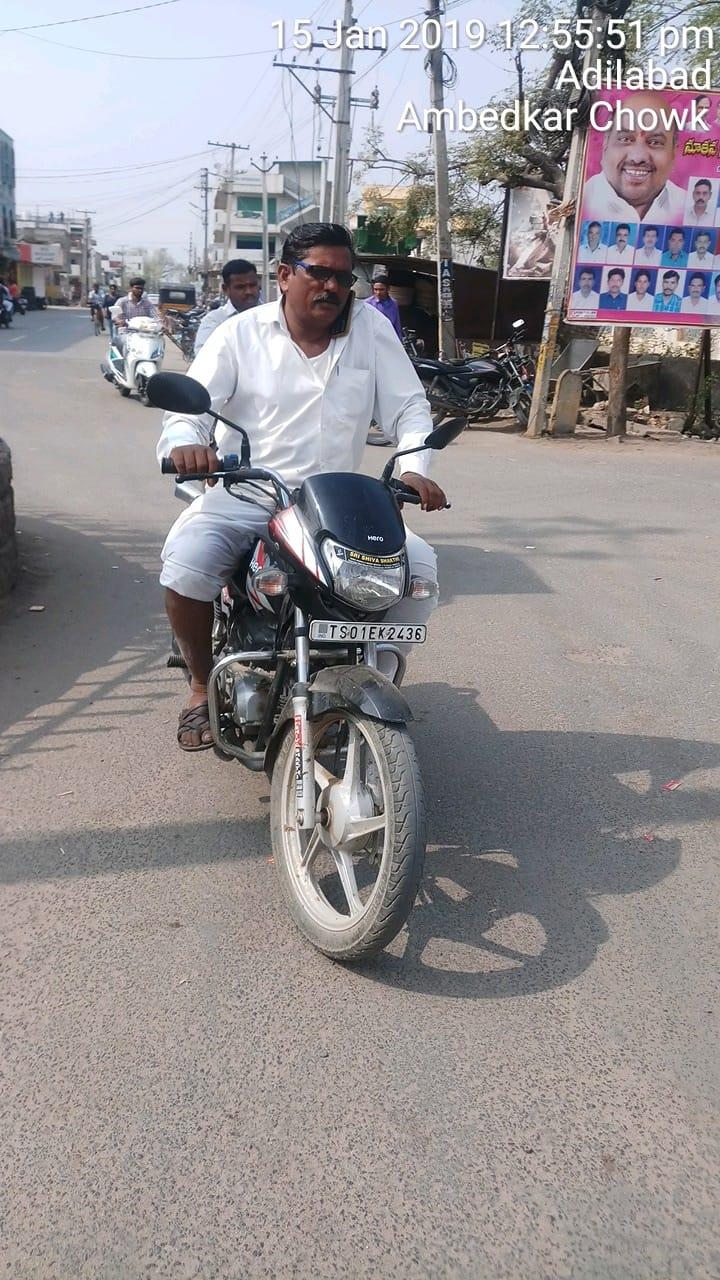plate: (303, 608, 440, 655)
